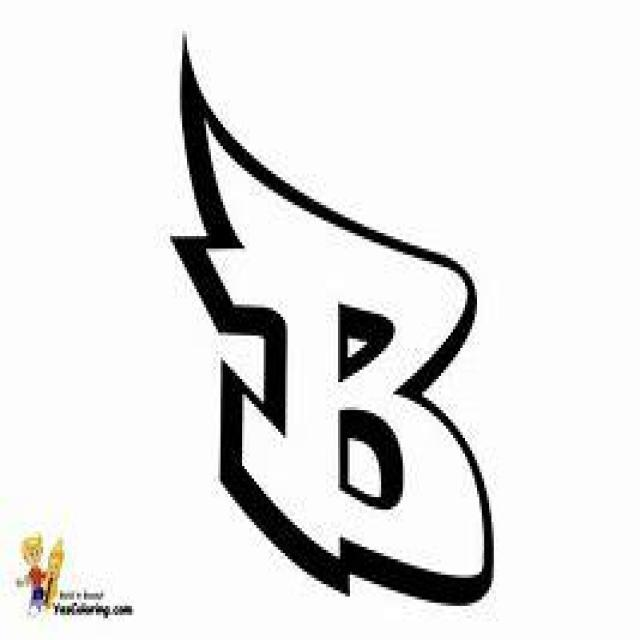nonspitting: (168, 34, 497, 618)
